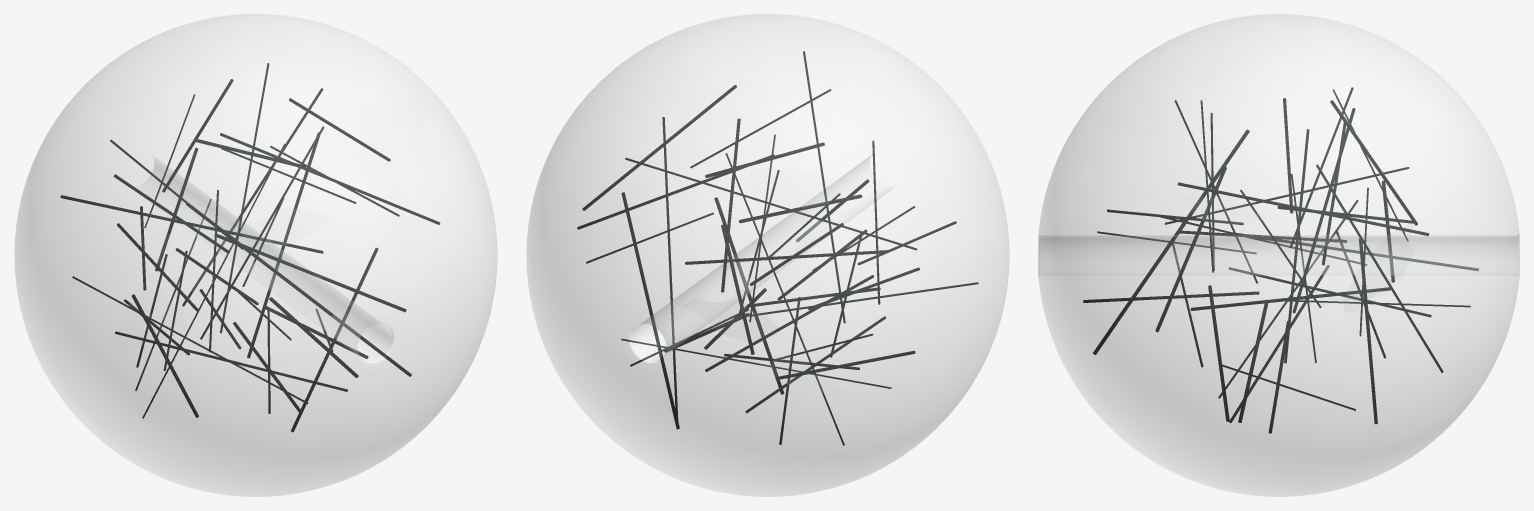
File: black-rutilated-quartz-12mm.glb
3 views of the same model, side by side, from view 1: azimuth 30°, elevation 25°; view 2: azimuth 150°, elevation 25°; view 3: azimuth 270°, elevation 25° (orthographic).
Parts seen in each view (by area): view 1: black-rutilated-quartz.001, black-rutilated-quartz_WEB_needles_38; view 2: black-rutilated-quartz.001, black-rutilated-quartz_WEB_needles_38; view 3: black-rutilated-quartz.001, black-rutilated-quartz_WEB_needles_38.
Boxes of the visible parts, left/top/right/bottom form: black-rutilated-quartz.001: left=14, top=14, right=497, bottom=496; black-rutilated-quartz_WEB_needles_38: left=60, top=63, right=440, bottom=432; black-rutilated-quartz.001: left=526, top=14, right=1009, bottom=496; black-rutilated-quartz_WEB_needles_38: left=577, top=51, right=978, bottom=445; black-rutilated-quartz.001: left=1038, top=14, right=1519, bottom=496; black-rutilated-quartz_WEB_needles_38: left=1083, top=87, right=1478, bottom=433.
Size of the model in its own units: 0.012 by 0.012 by 0.012.
3 materials, 1 textured.
